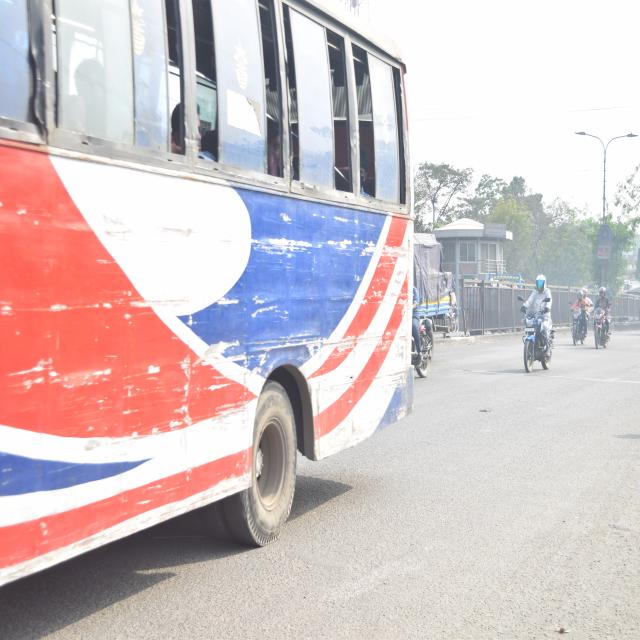bus: (0, 0, 419, 606)
motorbike: (508, 284, 556, 379), (588, 290, 615, 359), (566, 290, 588, 351)
